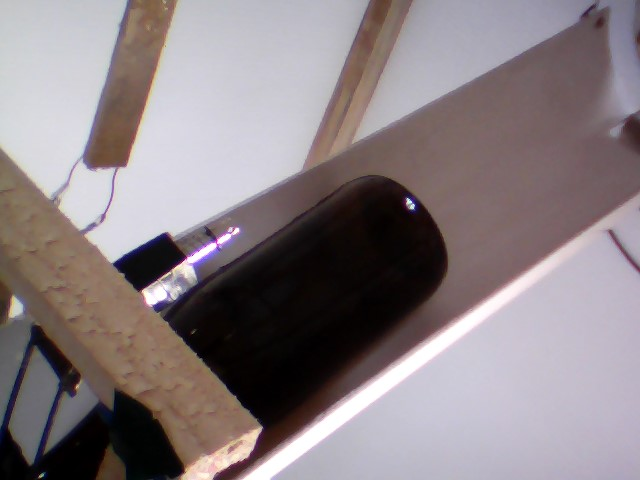vidrio: (190, 166, 455, 434)
